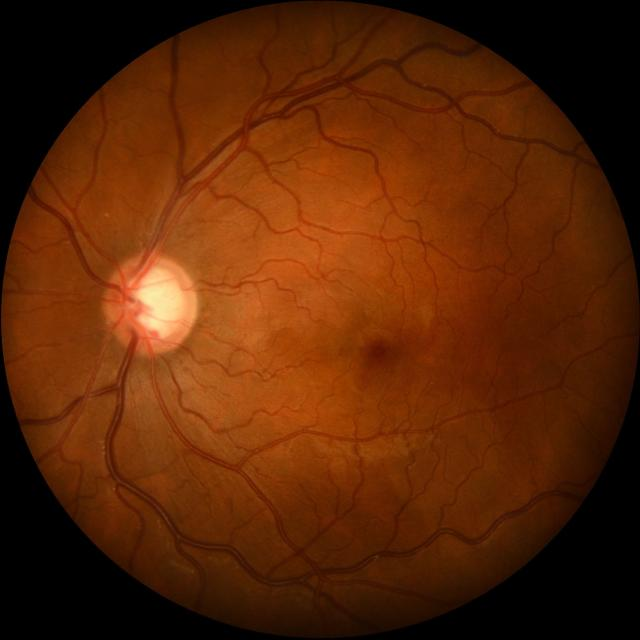OC: (125, 268, 182, 340)
OD: (104, 254, 198, 354)
